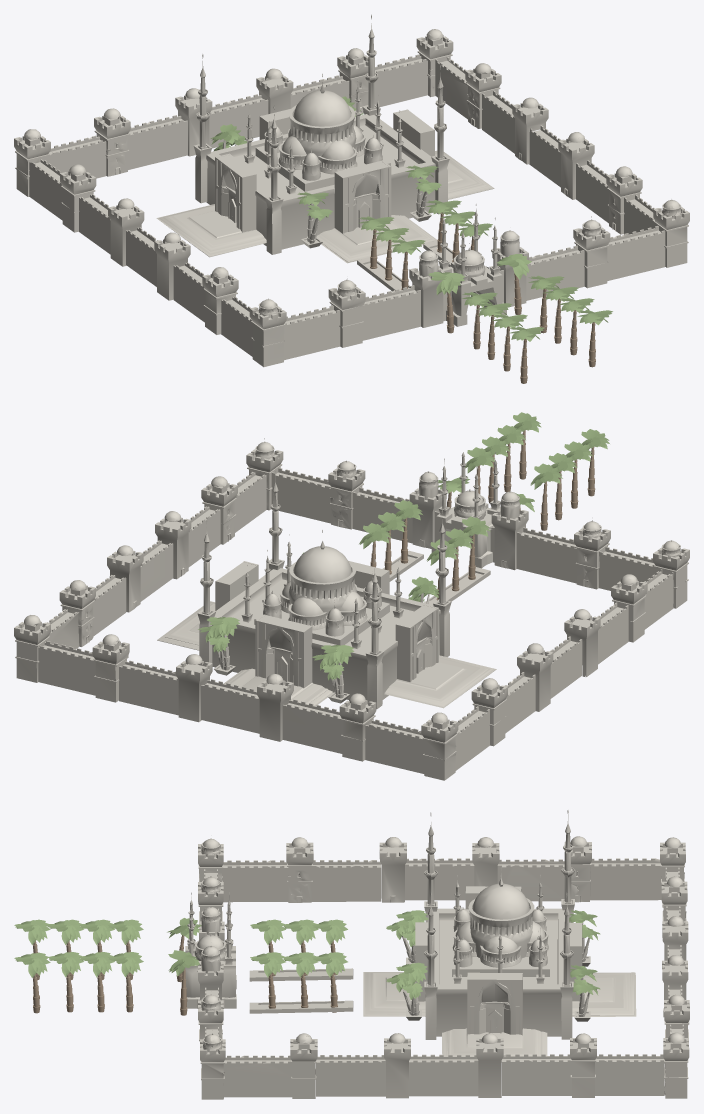
Rendered from oasis_mosque.glb.
3 views of the same model, one above another, from view 1: azimuth 30°, elevation 25°; view 2: azimuth 150°, elevation 25°; view 3: azimuth 270°, elevation 25° (orthographic).
Visible parts, largest first — view 1: stone, leaf, trunk; view 2: stone, leaf, trunk; view 3: stone, leaf, trunk.
Part boxes in pixels (<box>): stone: <box>14,14,689,367</box>; leaf: <box>210,96,612,341</box>; trunk: <box>370,212,595,383</box>; stone: <box>14,438,689,780</box>; leaf: <box>198,412,609,680</box>; trunk: <box>370,430,595,600</box>; stone: <box>185,810,689,1099</box>; leaf: <box>14,910,600,999</box>; trunk: <box>33,935,337,1015</box>.
Size of the model in its own units: 95.55 by 31.37 by 131.
